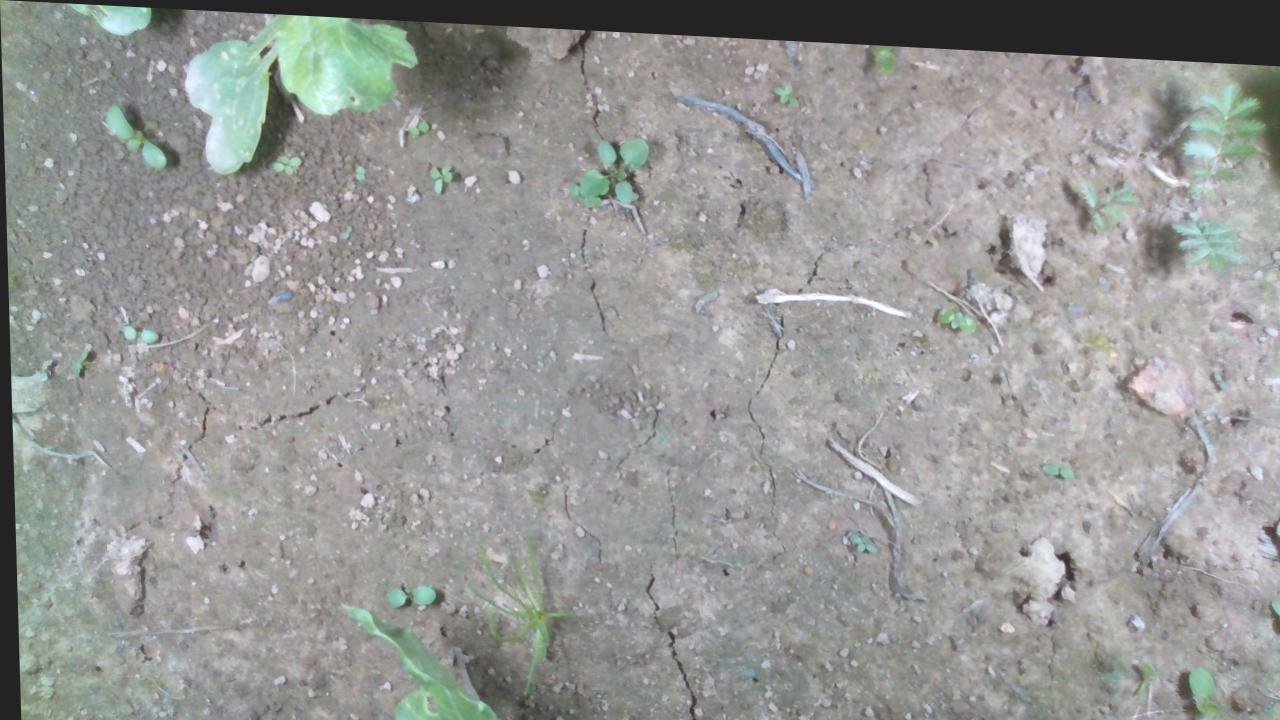weed: (101, 100, 166, 169)
